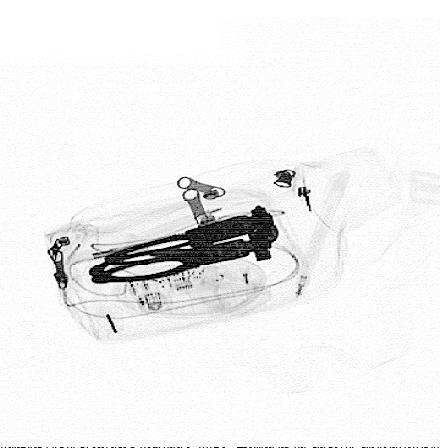HandCuffs: (86, 205, 281, 284)
